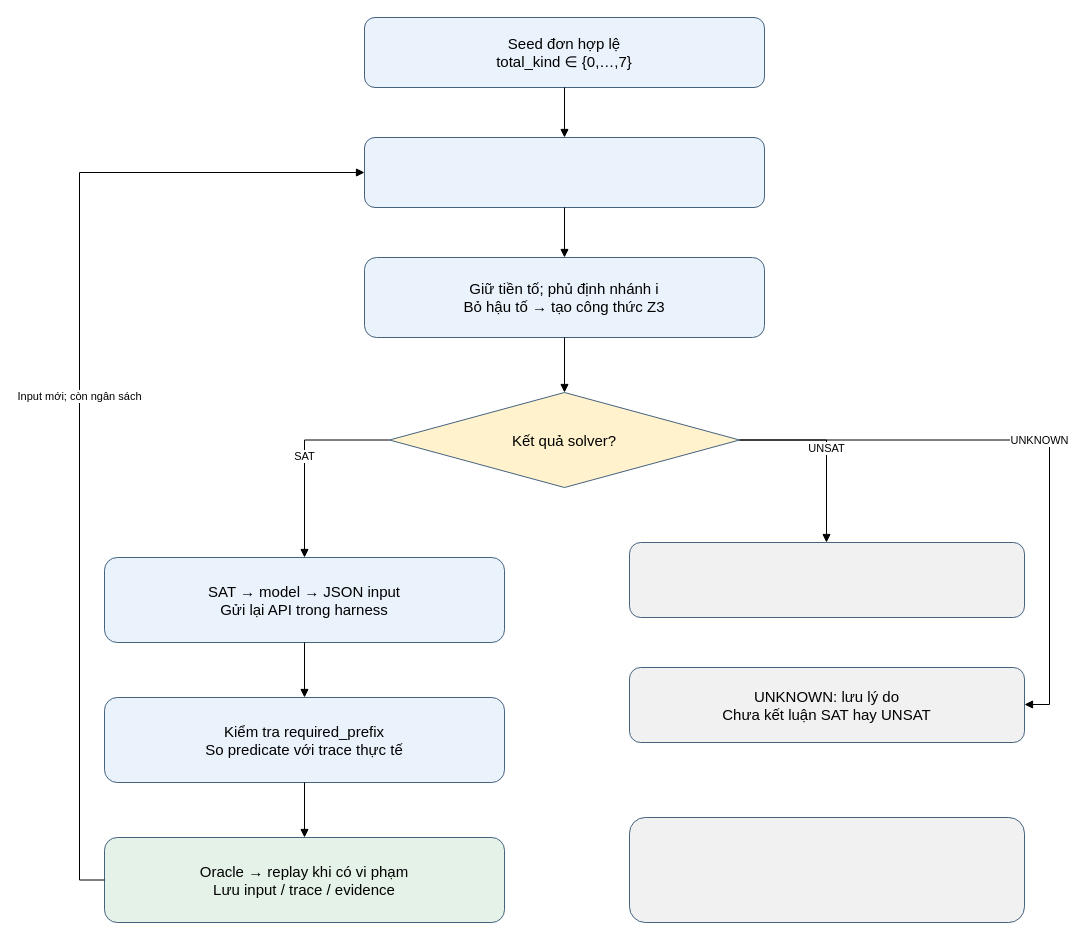
Some shapes in this 1085 by 940 pixel diagram are drawn without their labels. Here are the shapes that lost their labels. From the top down, the box of each, then its label:
(364, 136, 764, 208): Chạy concrete qua harness Thu branch trace thực tế
(628, 542, 1024, 618): UNSAT: không có nghiệm trong tiền tố / miền đã mã hóa
(628, 816, 1024, 922): Chỉ khảo sát totalAmount 8 đại diện JSON SAT không tự đồng nghĩa có lỗi
